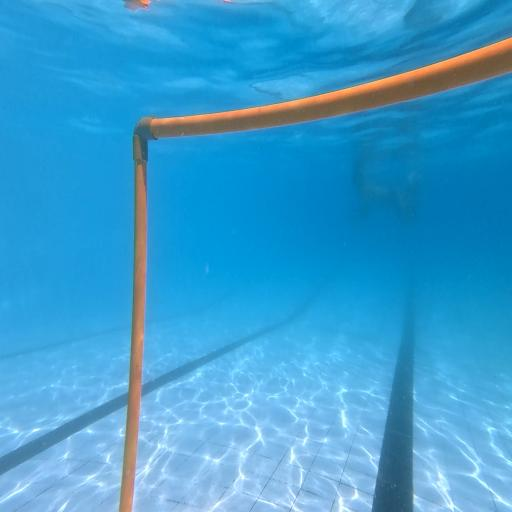gate: (119, 37, 512, 512)
